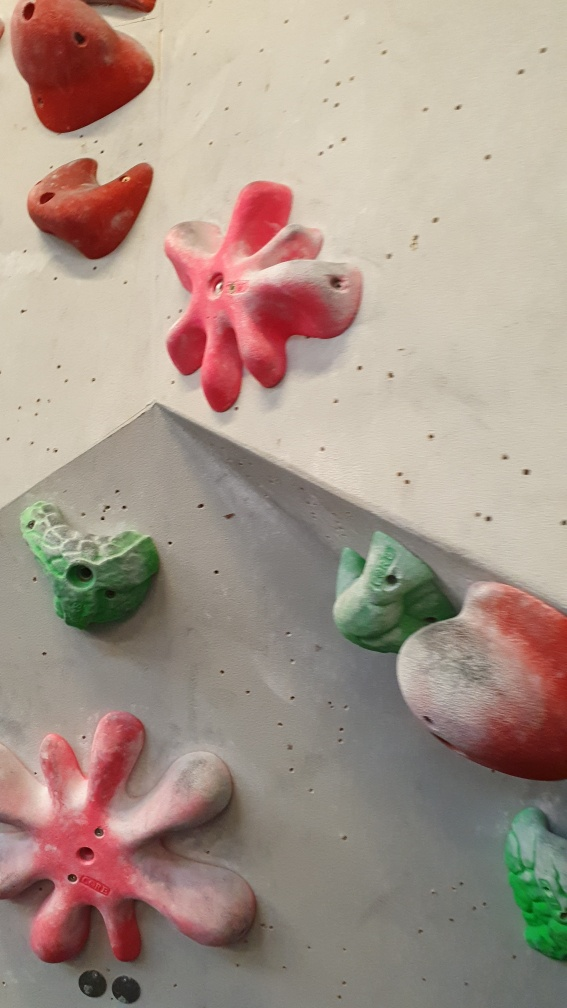Hand Start: (108, 971, 146, 1008), (76, 967, 109, 1000)
Jug: (328, 529, 464, 660), (496, 801, 567, 962)
Octopus Pinch: (1, 708, 263, 970), (156, 180, 372, 421)
Sloper: (392, 577, 567, 785)
